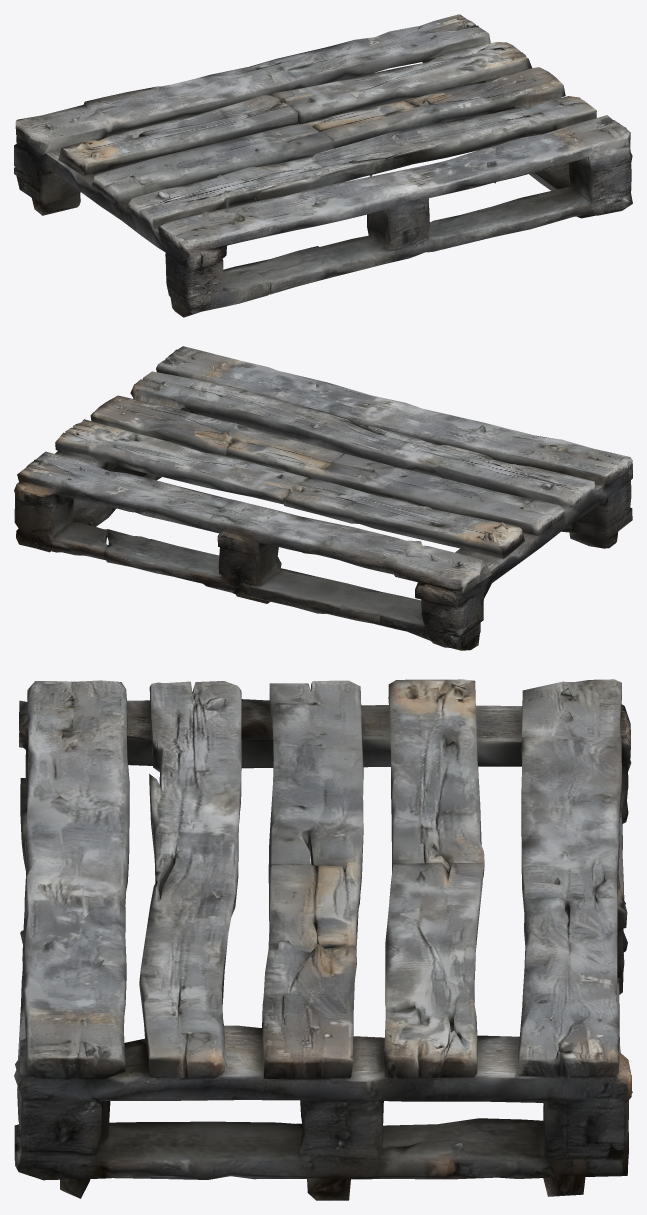
Rendered from pallet.fbx.
3 views of the same model, one above another, from view 1: azimuth 30°, elevation 25°; view 2: azimuth 150°, elevation 25°; view 3: azimuth 270°, elevation 25° (orthographic). The views are drawn at different scales.
Parts seen in each view (by area): view 1: pallet; view 2: pallet; view 3: pallet.
Part boxes in pixels (<box>): pallet: <box>14,14,632,317</box>; pallet: <box>14,346,632,650</box>; pallet: <box>14,679,632,1200</box>.
Size of the model in its own units: 1.2 by 0.2331 by 0.819.
1 material, 1 textured.
